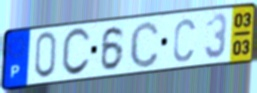0: (33, 31, 58, 82)
3: (204, 11, 228, 62)
6: (100, 24, 126, 72)
C: (60, 26, 93, 79), (128, 19, 161, 70), (172, 17, 197, 64)
